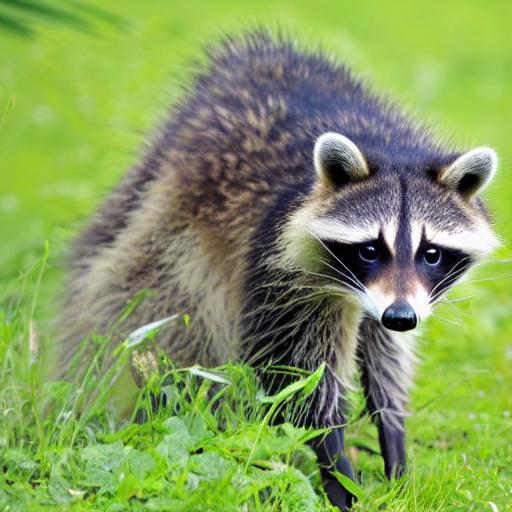raccoon: (47, 24, 510, 417)
